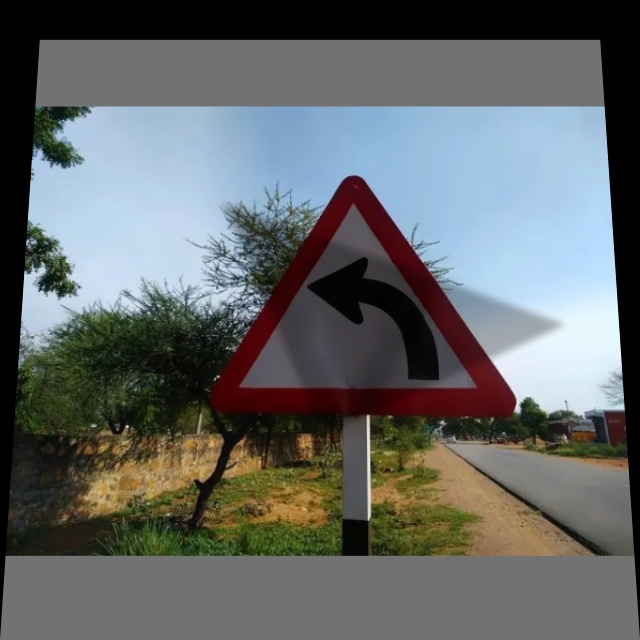Left_Hand_Curve: (230, 177, 515, 418)
